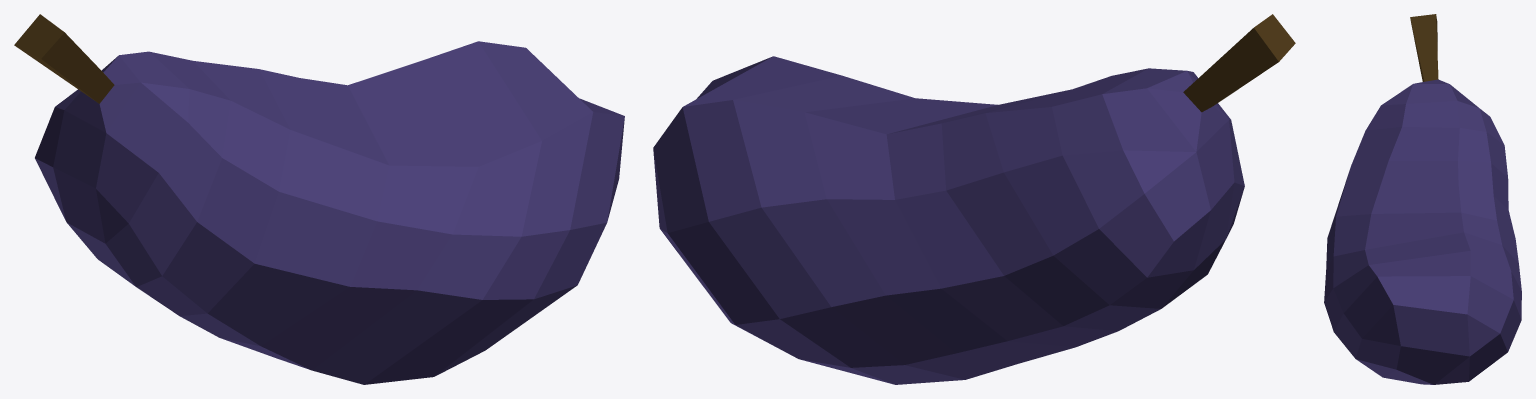
File: eggplant.fbx
3 views of the same model, side by side, from view 1: azimuth 30°, elevation 25°; view 2: azimuth 150°, elevation 25°; view 3: azimuth 270°, elevation 25° (orthographic). The views are drawn at different scales.
Visible parts, largest first — view 1: eggplant; view 2: eggplant; view 3: eggplant.
Boxes of the visible parts, left/top/right/bottom form: eggplant: left=14, top=14, right=624, bottom=384; eggplant: left=653, top=14, right=1295, bottom=384; eggplant: left=1324, top=14, right=1521, bottom=384.
Bounding box in the file's own units: 77.57 × 53.53 × 38.02.
